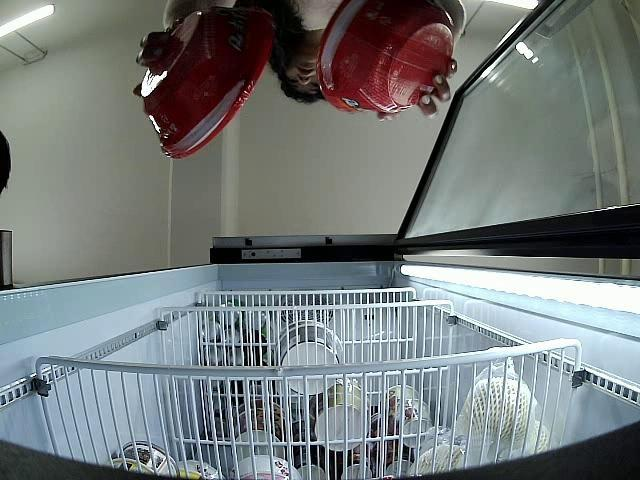10_wangTtukkeong: (141, 5, 274, 160), (317, 0, 453, 115)
